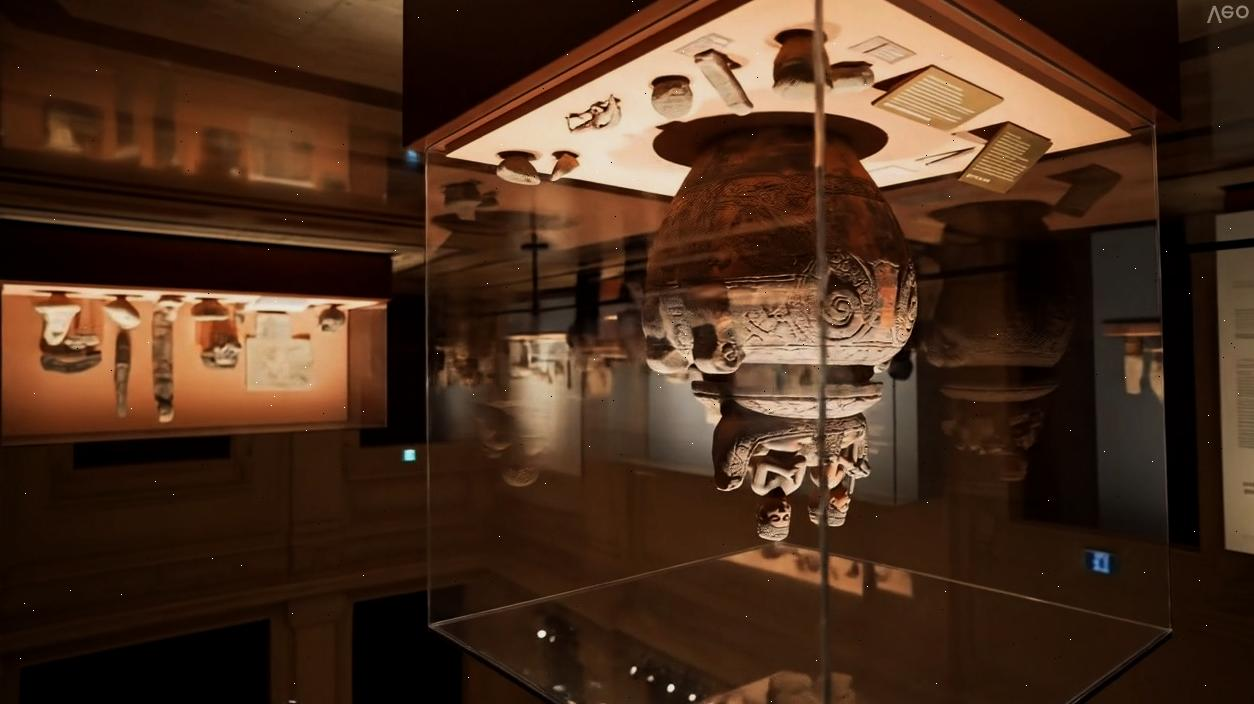manunggul_jar: (601, 115, 945, 562)
